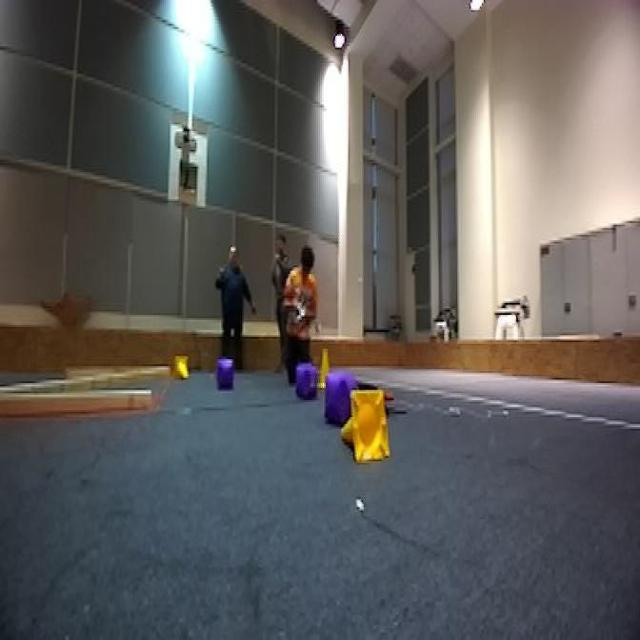frc_cone: (347, 386, 395, 466), (316, 348, 336, 387), (173, 356, 190, 380)
frc_cube: (334, 378, 370, 431), (291, 361, 317, 400), (216, 352, 236, 388)
